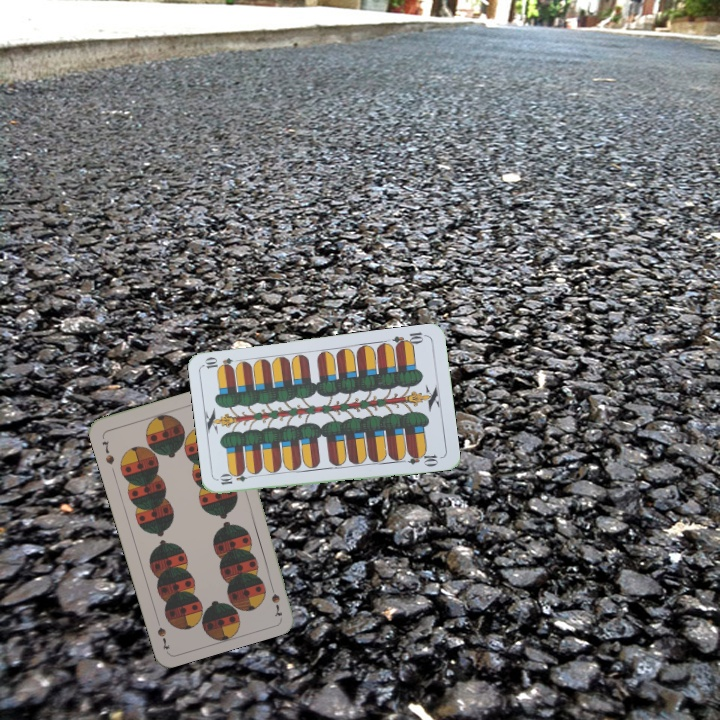E10: (389, 328, 429, 350), (216, 470, 257, 487)
S7: (266, 579, 285, 619), (97, 437, 117, 467)
